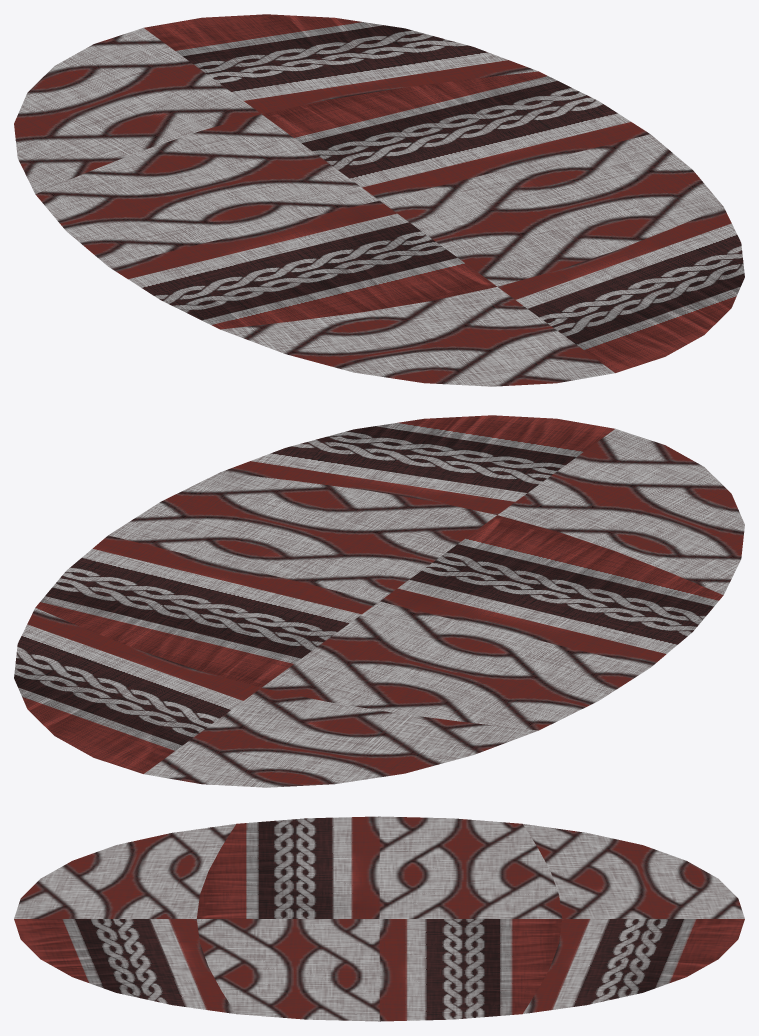
File: SM_AlfombraTrono.fbx
The picture shows the model from 3 angles, top to bottom: view 1: azimuth 30°, elevation 25°; view 2: azimuth 150°, elevation 25°; view 3: azimuth 270°, elevation 25°; orthographic projection. The views are drawn at different scales.
Visible parts, largest first — view 1: SM_AlfombraTrono; view 2: SM_AlfombraTrono; view 3: SM_AlfombraTrono.
Boxes of the visible parts, x1,y1,x2,y2 form: SM_AlfombraTrono: (14, 14, 744, 386); SM_AlfombraTrono: (14, 415, 744, 787); SM_AlfombraTrono: (14, 816, 744, 1021).
Size of the model in its own units: 291 by 7.15e-05 by 439.
